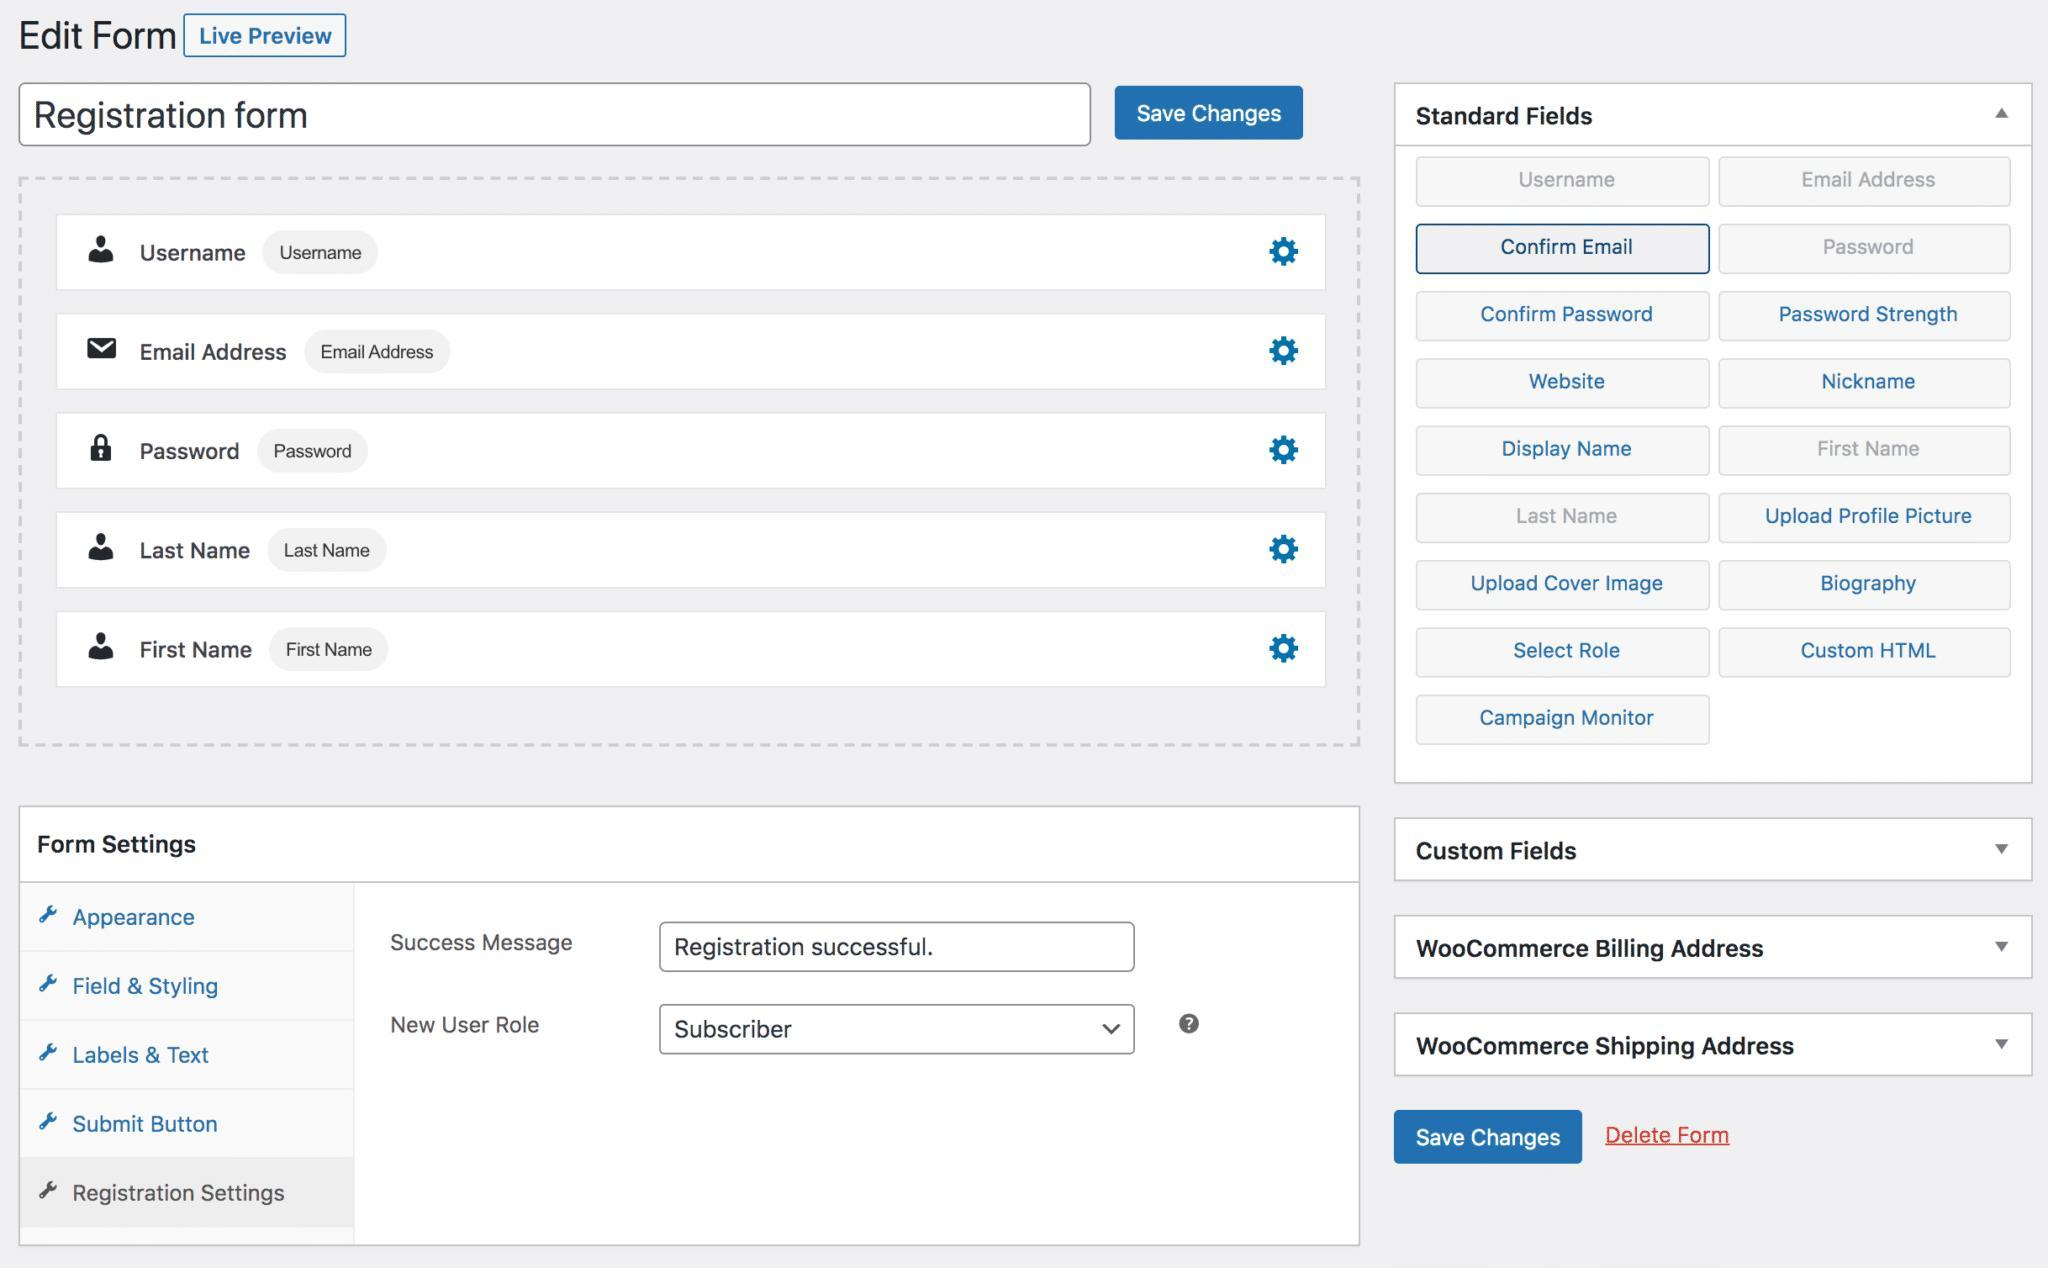button: (1720, 355, 2014, 412), (1719, 291, 2014, 344), (1719, 158, 2014, 209), (1418, 559, 1710, 610), (1418, 358, 1709, 410), (1720, 224, 2016, 273), (1719, 491, 2006, 543), (1720, 627, 2006, 679), (1418, 427, 1710, 477), (1720, 426, 2013, 475), (1418, 293, 1709, 342), (1419, 159, 1712, 208), (1418, 494, 1709, 543), (1416, 698, 1709, 744), (1418, 228, 1712, 273), (1416, 630, 1709, 674), (1719, 566, 2010, 604), (1396, 1109, 1583, 1164), (1118, 86, 1305, 137), (184, 15, 350, 59)
dropdown: (1397, 818, 2030, 883), (1396, 1014, 2033, 1076), (1396, 85, 2030, 145), (1396, 917, 2036, 975), (658, 1003, 1137, 1056)
icon: (1268, 424, 1303, 477), (1265, 525, 1300, 578), (1268, 626, 1300, 677), (80, 624, 117, 668), (82, 233, 118, 273), (1268, 238, 1303, 276), (83, 336, 120, 371), (88, 531, 117, 572), (1268, 331, 1298, 371), (34, 1176, 70, 1207), (86, 431, 116, 469), (1173, 1008, 1204, 1041), (31, 1106, 61, 1136), (35, 899, 63, 929), (41, 970, 63, 1003), (38, 1038, 59, 1069)
input: (20, 80, 1091, 148), (663, 921, 1132, 975)
label: (75, 1182, 288, 1217), (386, 929, 582, 967), (67, 968, 224, 1006), (382, 1008, 546, 1043), (38, 828, 199, 863), (1606, 1117, 1733, 1155), (69, 1041, 218, 1073), (64, 902, 211, 935), (72, 1109, 222, 1138), (138, 338, 290, 366), (135, 534, 256, 567), (135, 437, 257, 467), (139, 241, 250, 268), (138, 639, 256, 663)
